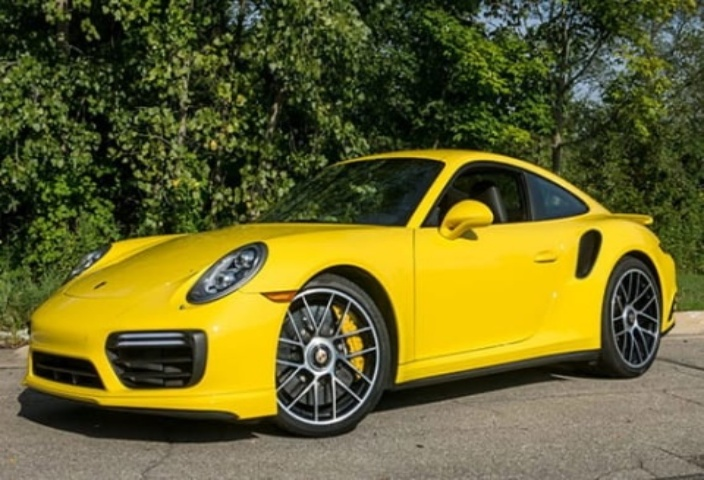car: (25, 122, 691, 441)
